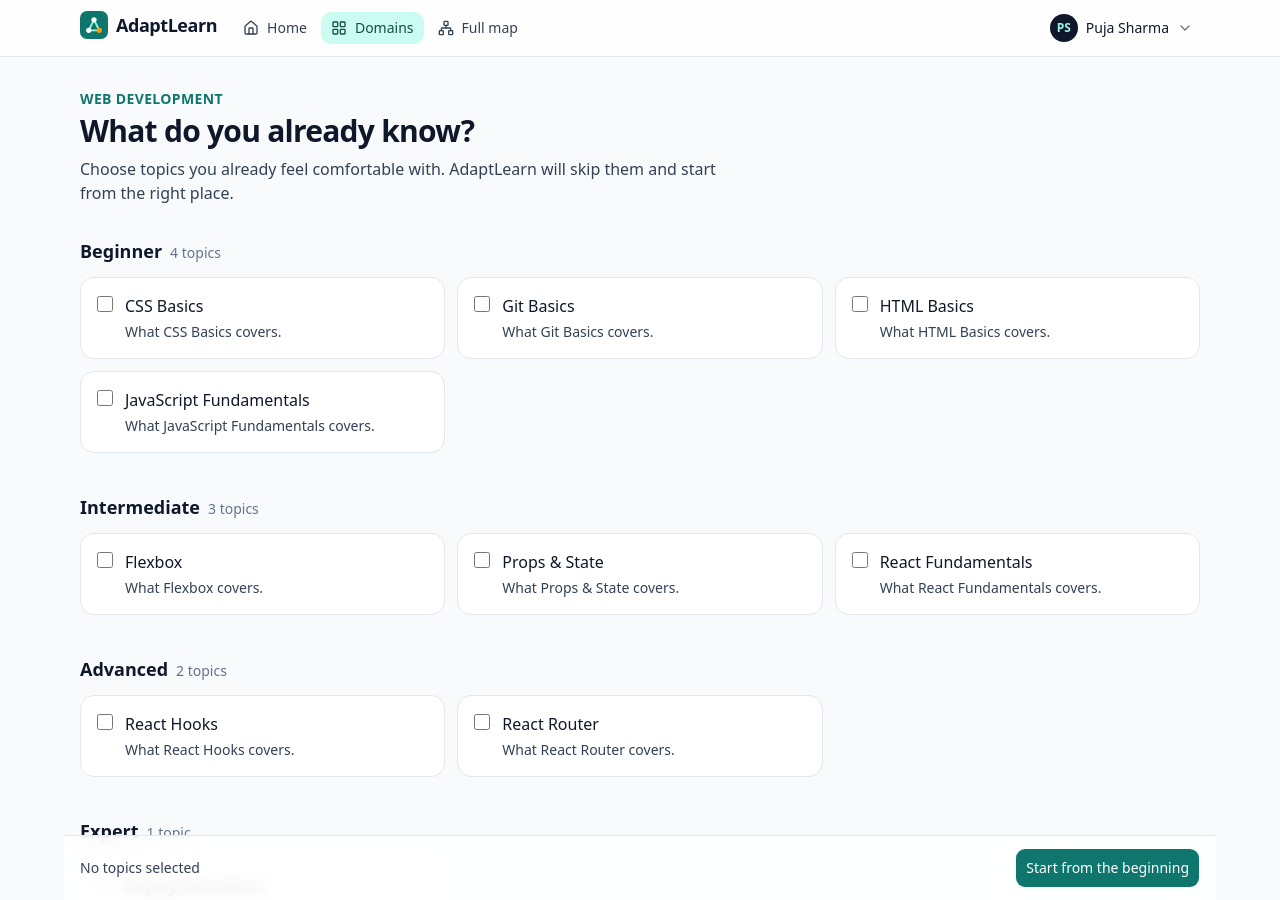
Test: choosing topics › ticks a topic's prerequisites too, explains why, and counts them
This screenshot has width=1280, height=900.
Click the checkbox labelled "React Hooks".
click(105, 722)  # box [97, 714, 113, 730]
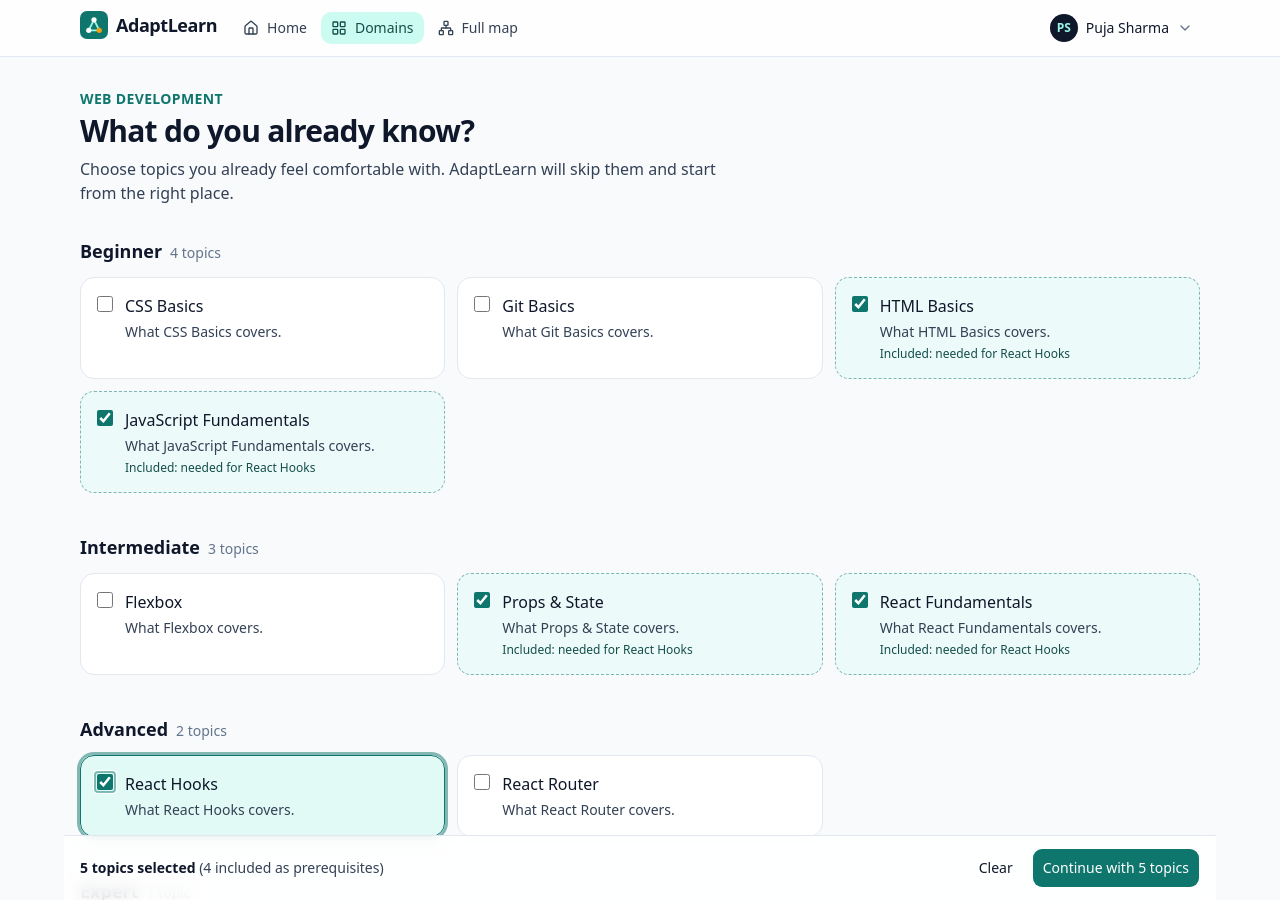
Expected: the checkbox labelled "Props & State" is checked, [474, 592, 490, 608]
Expected: the checkbox labelled "React Fundamentals" is checked, [852, 592, 868, 608]
Expected: the checkbox labelled "JavaScript Fundamentals" is checked, [97, 410, 113, 426]
